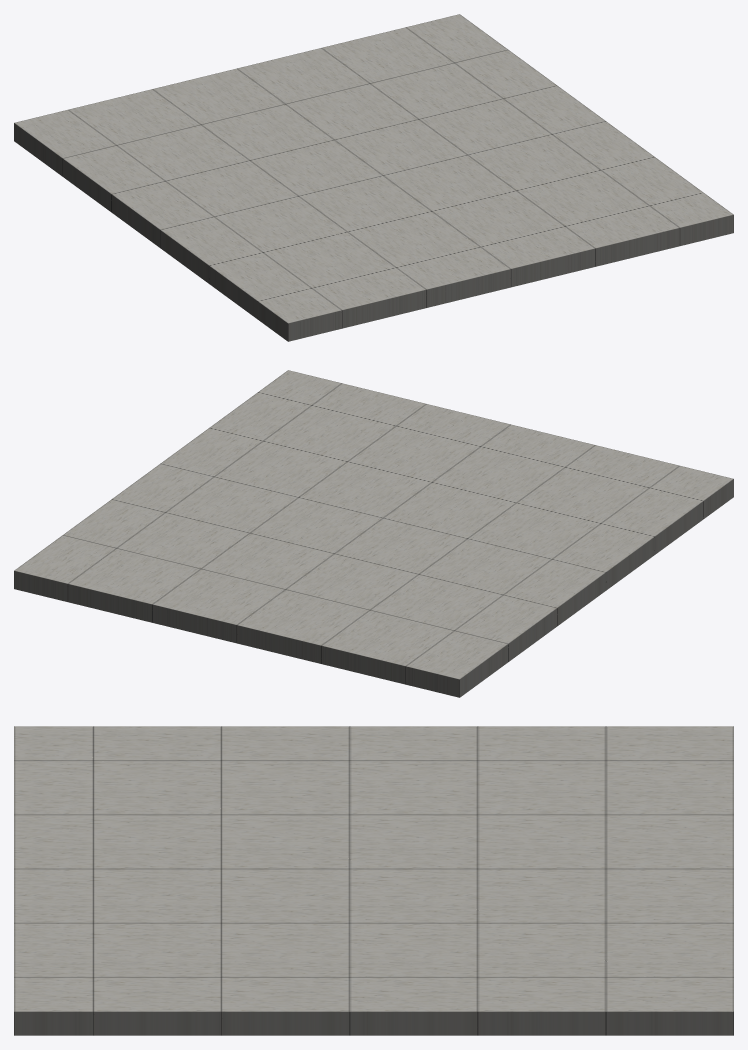
3 renders of one model, top to bottom at view 1: azimuth 30°, elevation 25°; view 2: azimuth 150°, elevation 25°; view 3: azimuth 270°, elevation 25°, orthographic. The views are drawn at different scales.
Parts seen in each view (by area): view 1: MainModel:0; view 2: MainModel:0; view 3: MainModel:0.
Boxes of the visible parts, x1,y1,x2,y2 form: MainModel:0: (14, 14, 733, 341); MainModel:0: (14, 370, 733, 697); MainModel:0: (14, 726, 733, 1035).
Bounding box in the file's own units: 1.61 × 0.063 × 1.71.
Materials: 1 (1 with a texture image).
